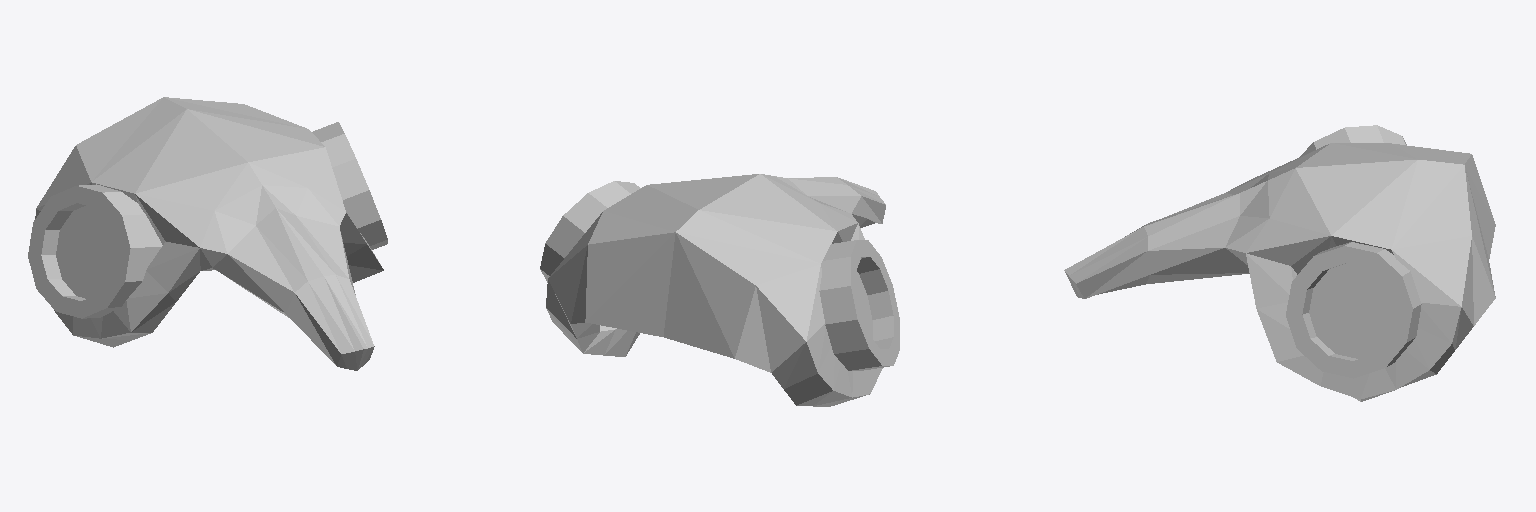
The model's file is plague_mask.obj.
3 renders of one model, left to right at view 1: azimuth 30°, elevation 25°; view 2: azimuth 150°, elevation 25°; view 3: azimuth 270°, elevation 25°, orthographic.
Visible parts, largest first — view 1: Cube.012, Cylinder.007_Cylinder.006, Cylinder.008; view 2: Cube.012, Cylinder.007_Cylinder.006; view 3: Cube.012, Cylinder.007_Cylinder.006, Cylinder.008.
Boxes of the visible parts, box(x1,y1,x2,y2) form: Cube.012: box(35, 97, 383, 370); Cylinder.007_Cylinder.006: box(28, 122, 387, 318); Cylinder.008: box(56, 206, 116, 298); Cube.012: box(546, 174, 885, 406); Cylinder.007_Cylinder.006: box(540, 181, 899, 370); Cube.012: box(1064, 143, 1495, 401); Cylinder.007_Cylinder.006: box(1286, 125, 1421, 378); Cylinder.008: box(1309, 263, 1395, 358).
Size of the model in its own units: 1.26 by 0.693 by 1.4.